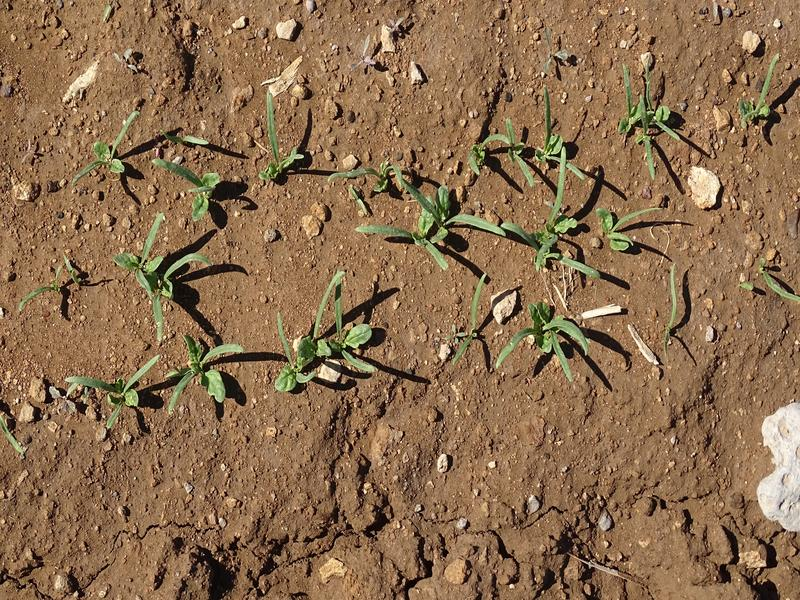Espinaca: (400, 85, 602, 396), (68, 104, 319, 212), (76, 328, 229, 432), (273, 287, 390, 394), (121, 223, 199, 314), (619, 65, 686, 168), (733, 54, 785, 137), (598, 198, 658, 254)
